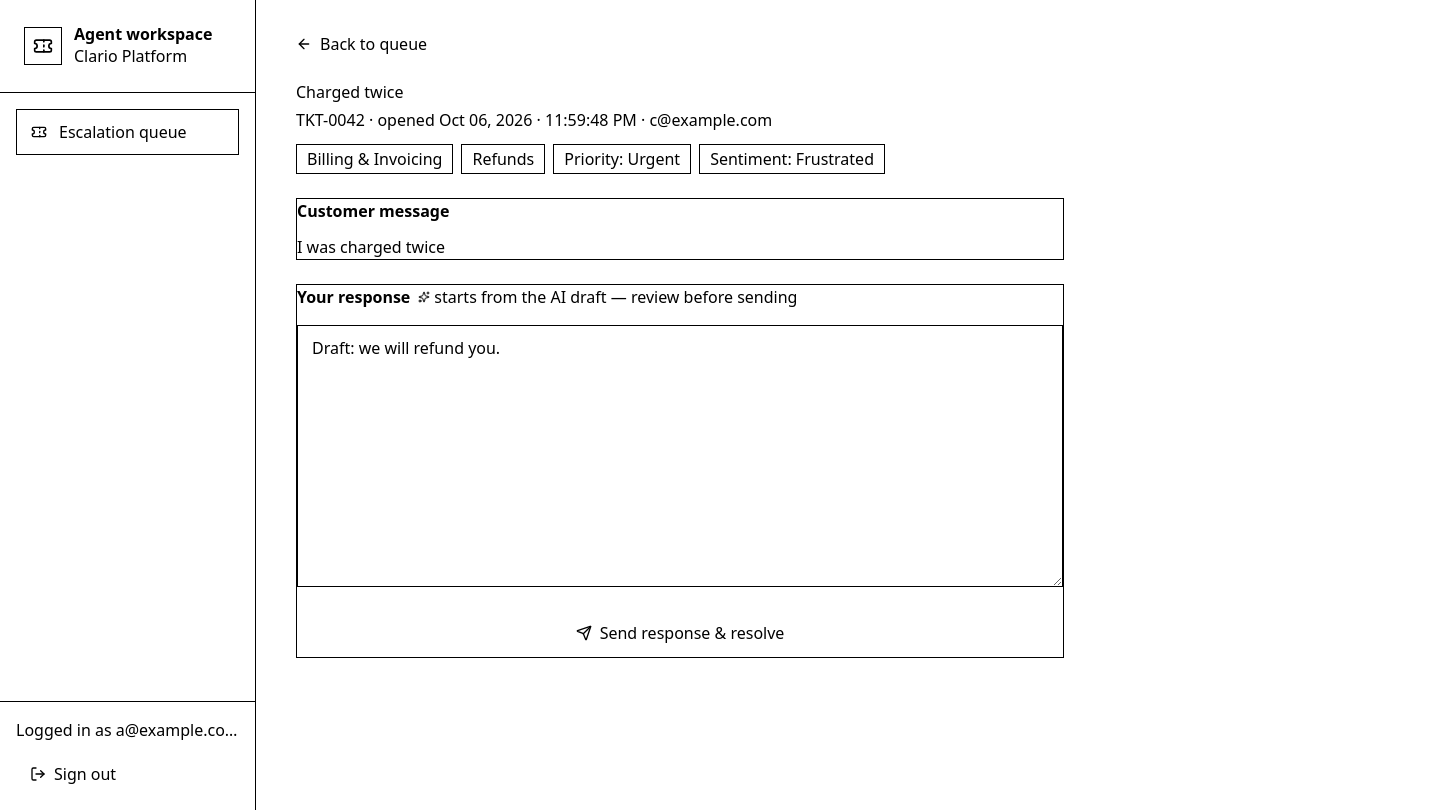
it: Agent ticket review page (FR-035 / FR-036) › does not allow sending an empty response
Clear the text box named "Response to the customer". click: coordinates (680, 456)
box: [297, 325, 1063, 587]
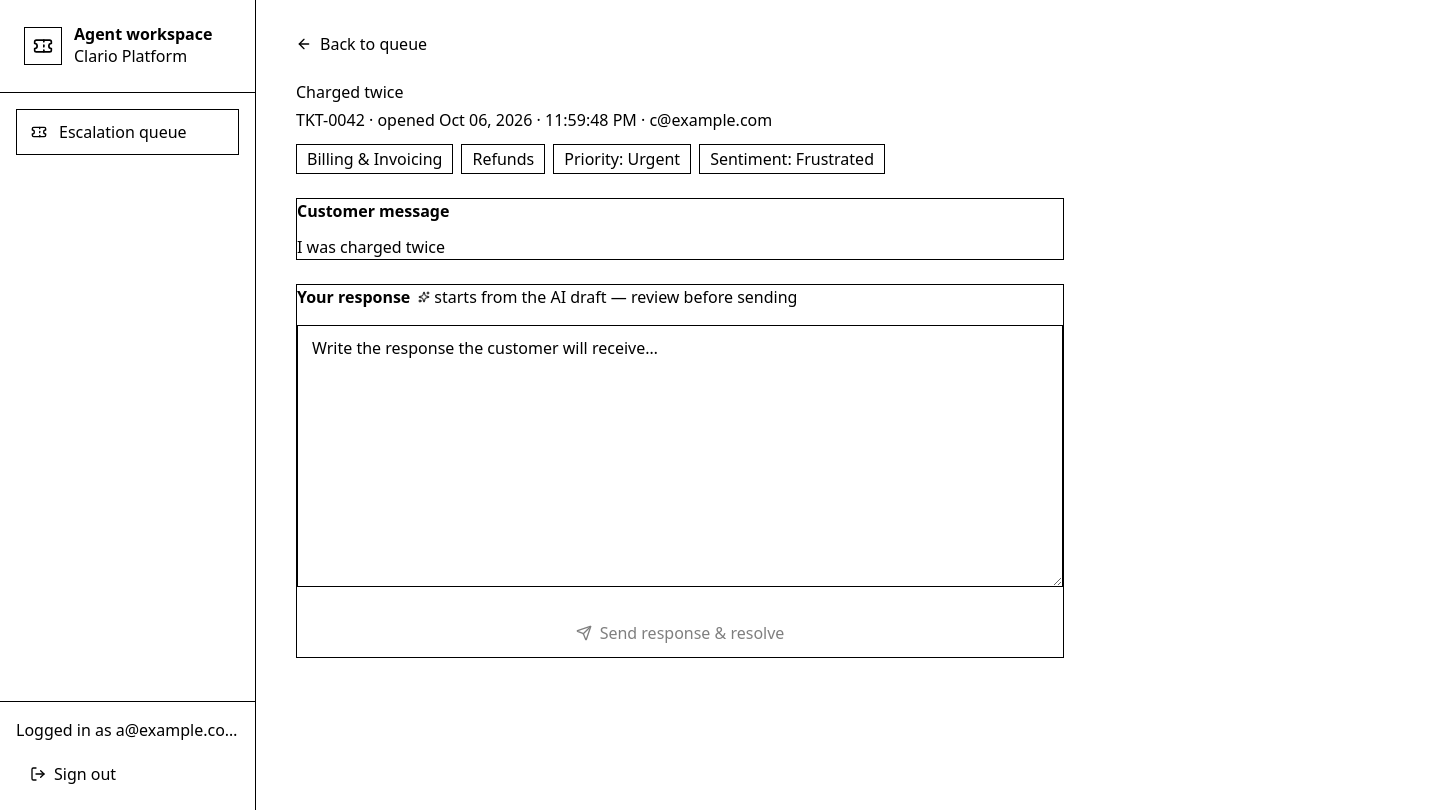
Result: the button "Send response & resolve" is disabled at [297, 609, 1063, 657]
